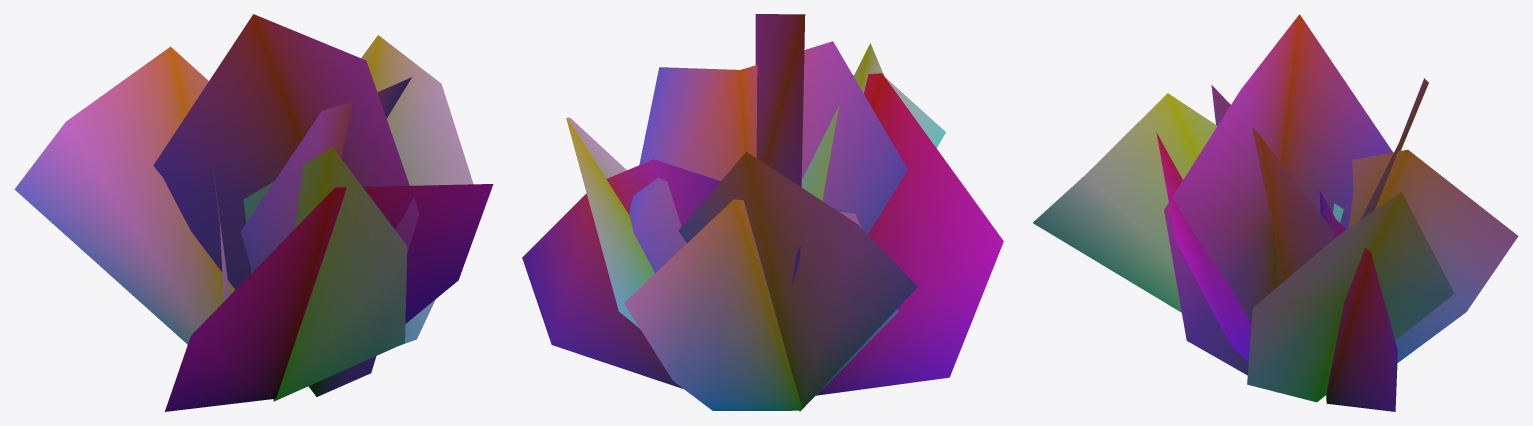
File: misc_groundshrubs_01_b.dae
3 views of the same model, side by side, from view 1: azimuth 30°, elevation 25°; view 2: azimuth 150°, elevation 25°; view 3: azimuth 270°, elevation 25° (orthographic). The views are drawn at different scales.
Visible parts, largest first — view 1: shrubsb; view 2: shrubsb; view 3: shrubsb.
Boxes of the visible parts, box(x1,y1,x2,y2) form: shrubsb: box(14, 14, 493, 411); shrubsb: box(522, 14, 1003, 411); shrubsb: box(1033, 14, 1518, 411).
Bounding box in the file's own units: 1.09 × 1.24 × 1.01.
